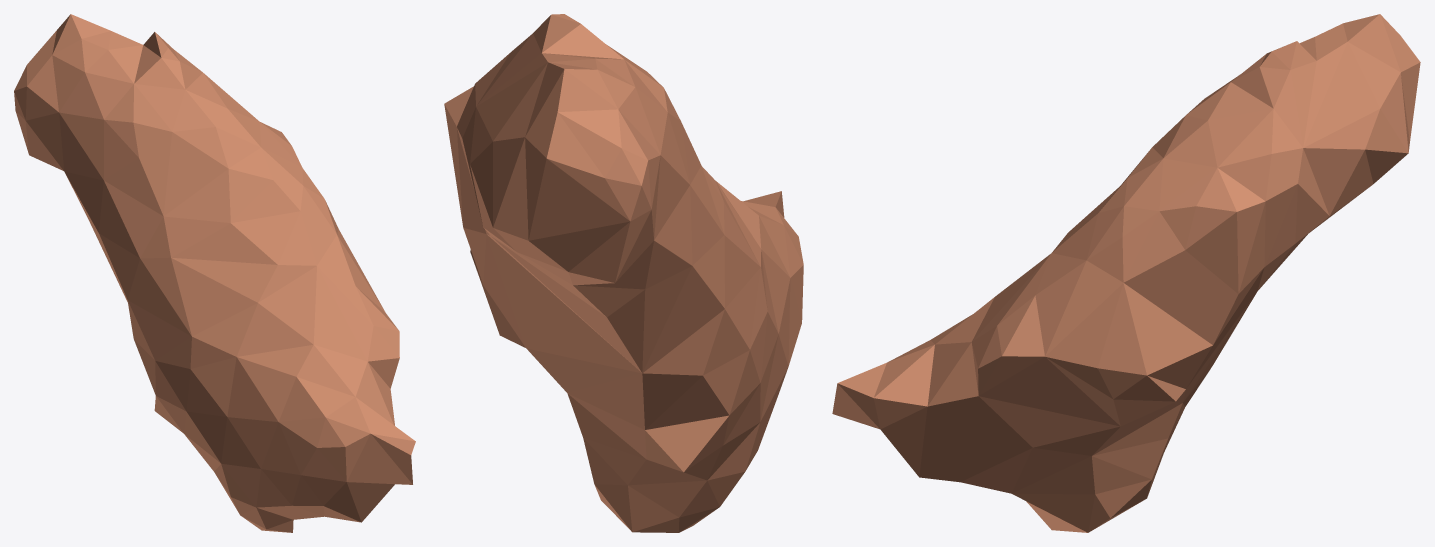
The model's file is Model_10475_LH__Ventral_cochlear_nucleus__anterior_part_(VCA).obj.
The picture shows the model from 3 angles, left to right: view 1: azimuth 30°, elevation 25°; view 2: azimuth 150°, elevation 25°; view 3: azimuth 270°, elevation 25°; orthographic projection. The views are drawn at different scales.
Bounding box in the file's own units: 0.4332 × 0.7915 × 0.8864.
